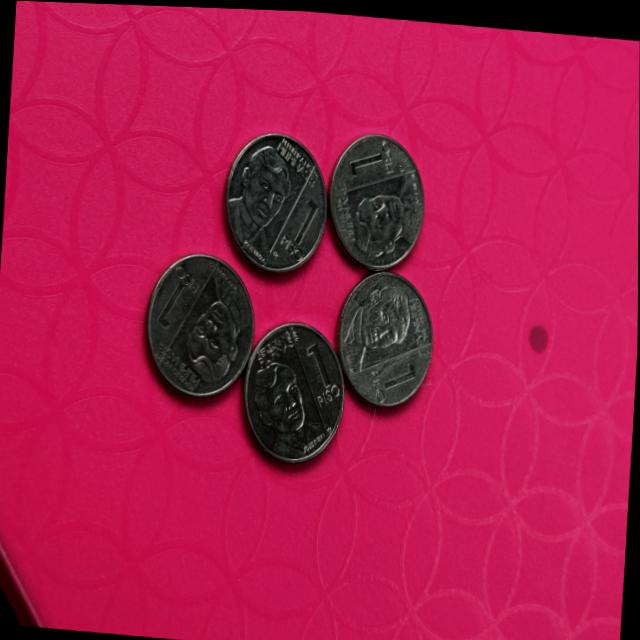1_New_Front: (158, 252, 206, 324), (361, 339, 425, 390), (303, 333, 346, 404), (285, 184, 326, 248), (342, 131, 401, 174)
